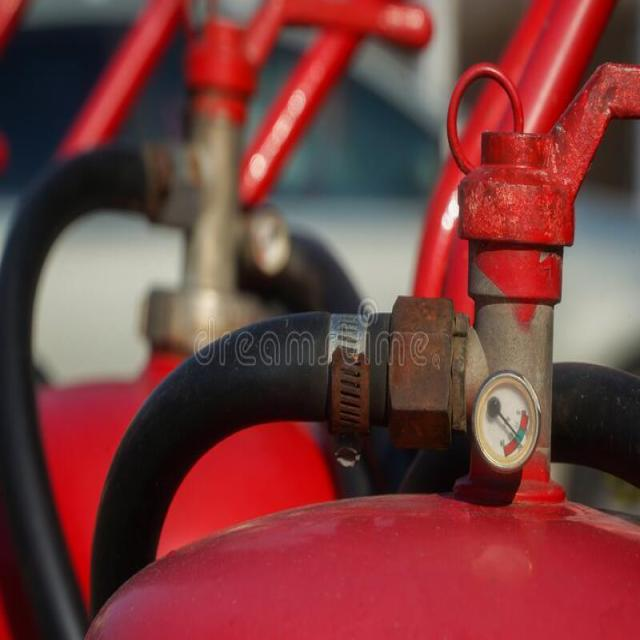fire_extinguisher: (70, 57, 640, 638), (0, 11, 350, 639)
